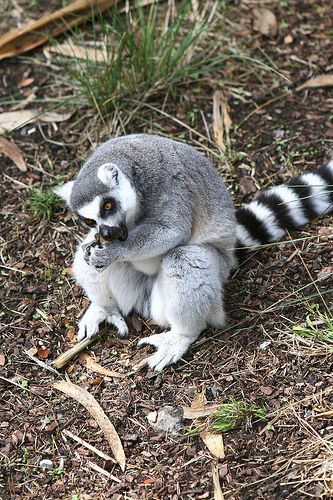cat: (50, 132, 330, 371)
